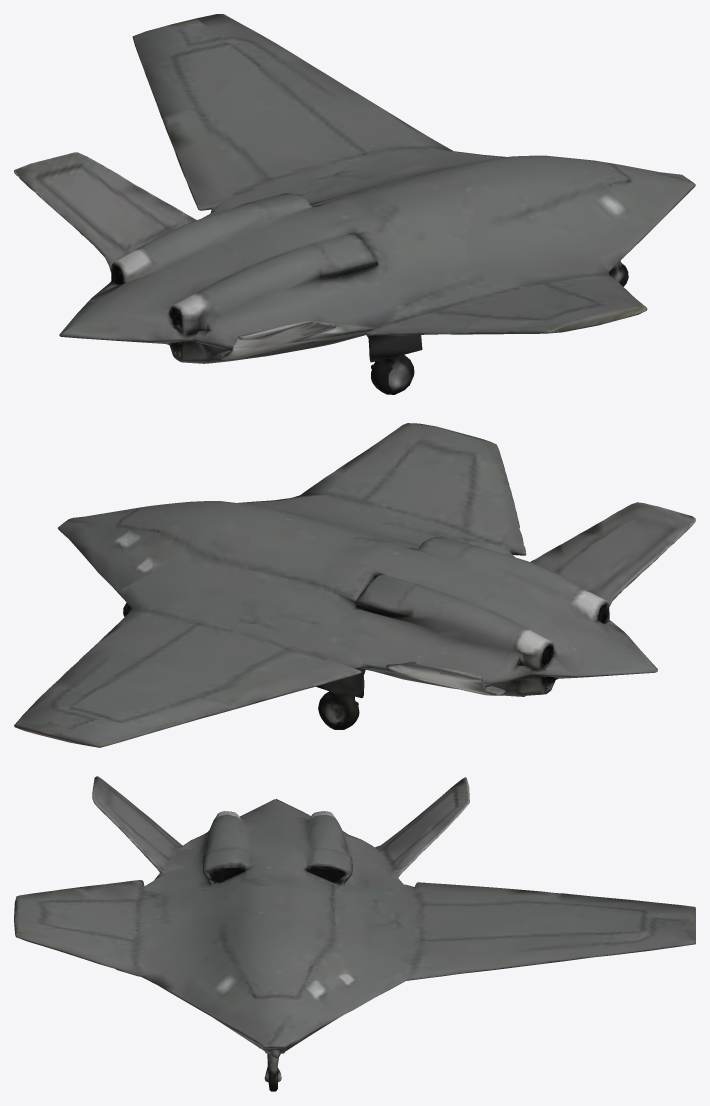
Rendered from ghatak_ucav.glb.
The picture shows the model from 3 angles, top to bottom: view 1: azimuth 30°, elevation 25°; view 2: azimuth 150°, elevation 25°; view 3: azimuth 270°, elevation 25°; orthographic projection. The views are drawn at different scales.
Visible parts, largest first — view 1: tripo_node_e03eda34-317f-46c0-be1b-df4456c413cd; view 2: tripo_node_e03eda34-317f-46c0-be1b-df4456c413cd; view 3: tripo_node_e03eda34-317f-46c0-be1b-df4456c413cd.
Part boxes in pixels (x1,y1,x2,y2): tripo_node_e03eda34-317f-46c0-be1b-df4456c413cd: (14, 14, 695, 394); tripo_node_e03eda34-317f-46c0-be1b-df4456c413cd: (14, 423, 695, 747); tripo_node_e03eda34-317f-46c0-be1b-df4456c413cd: (14, 776, 695, 1091).
Size of the model in its own units: 0.864 by 0.2116 by 0.9992.
1 material, 1 textured.
